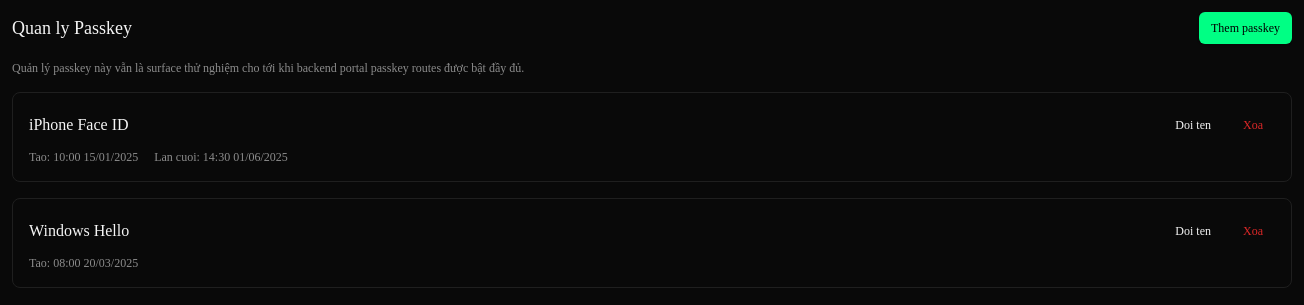
Test case: PasskeyManagement › renames a passkey
Expected: the text "iPhone Face ID" is shown, x1=29 y1=113 x2=128 y2=137
Click the button "Doi ten" in the row of "iPhone Face ID".
click(1193, 125)  # box x1=1163 y1=109 x2=1223 y2=141
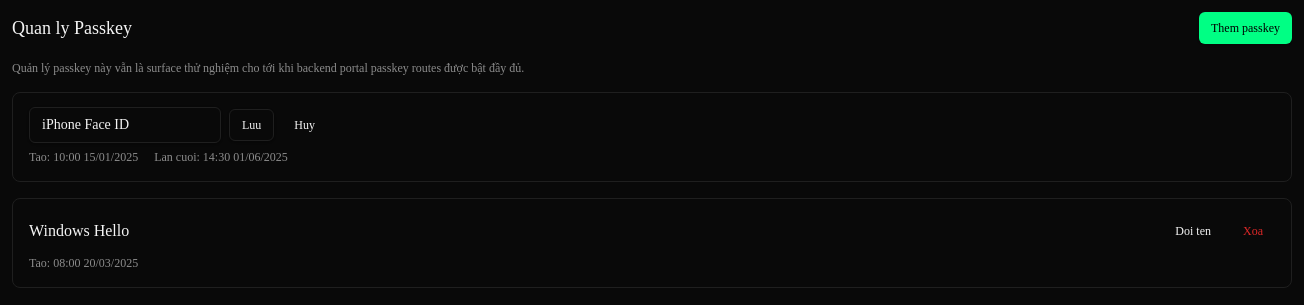
Replace the text in the field with placeholder "Ten moi" with "My iPhone" at [125, 125], box x1=29 y1=107 x2=221 y2=143
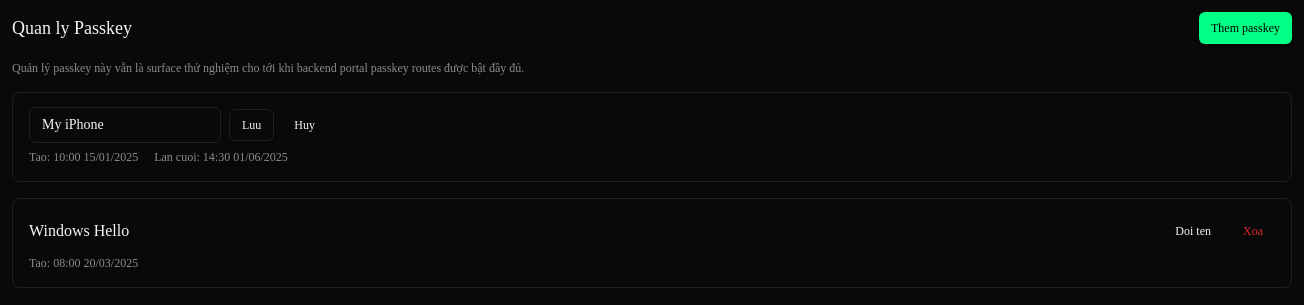
Click the button "Luu".
click(252, 125)  # box x1=229 y1=109 x2=274 y2=141
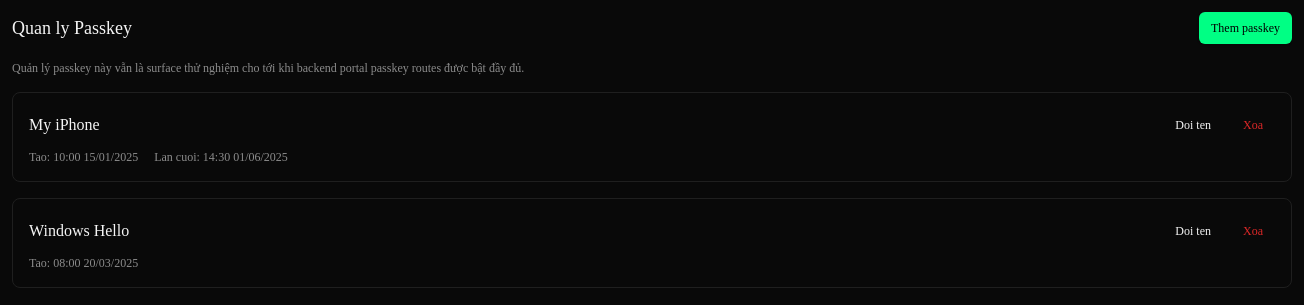
Expected: the text "My iPhone" is shown, x1=29 y1=113 x2=100 y2=137
